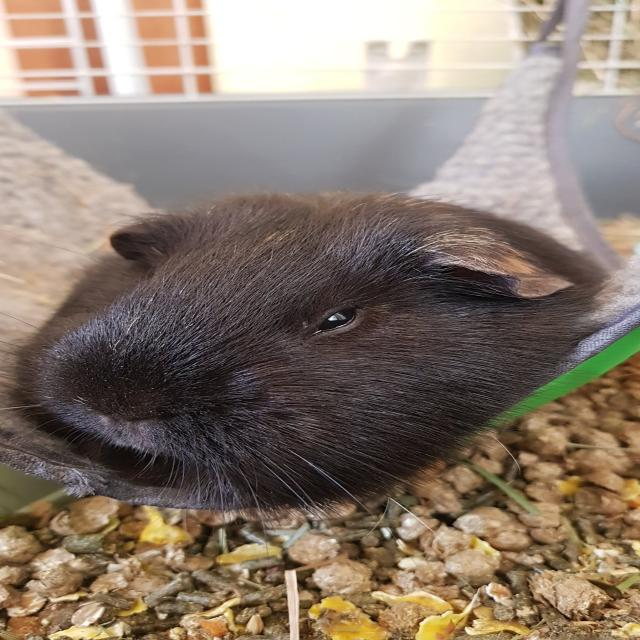guinea pig: (16, 186, 603, 504)
